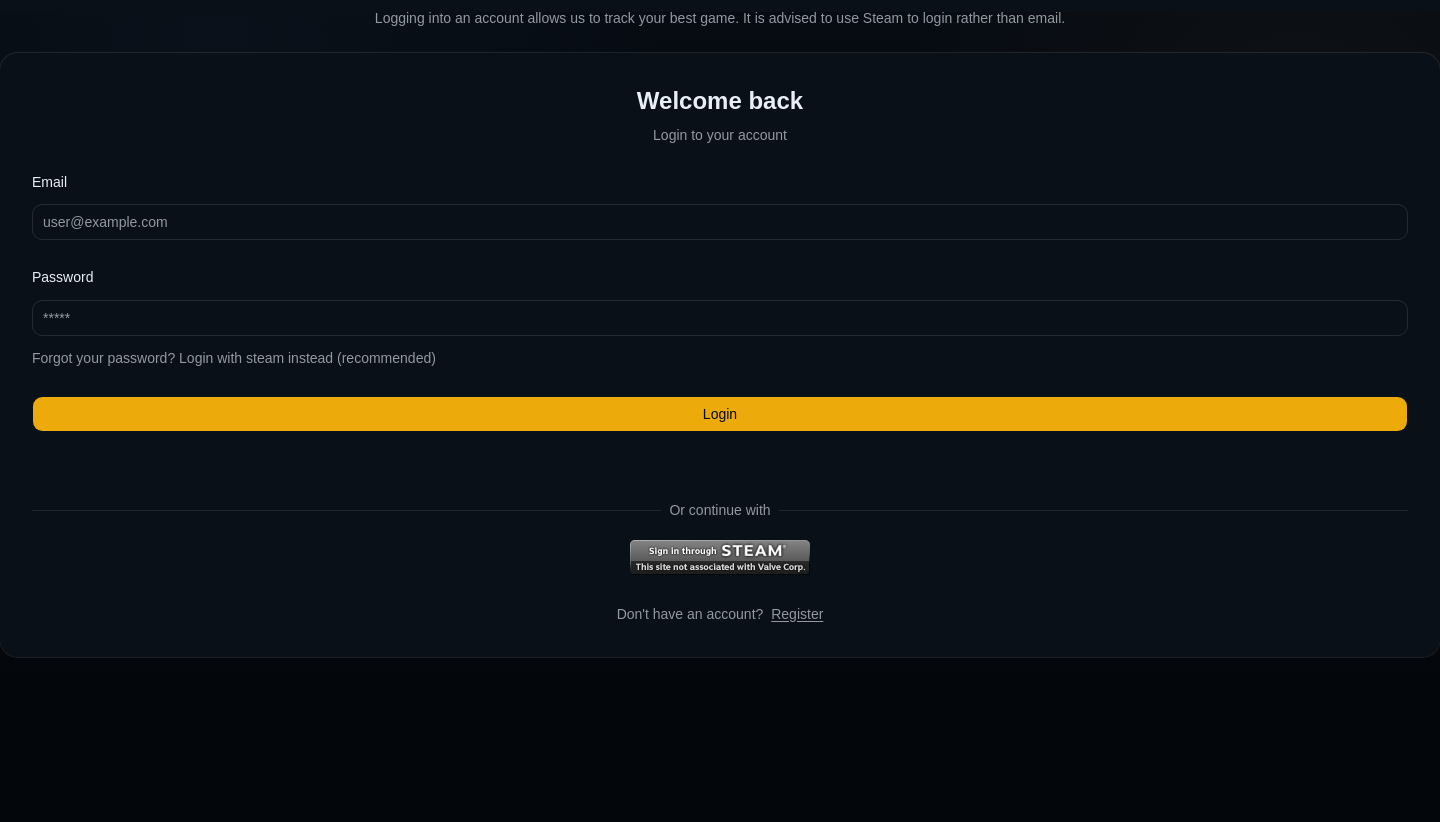
it: LoginForm › logs in, sets a success notification, and navigates home
Type "player@example.com" into the field labelled "Email". click: point(720, 222)
box: left=32, top=204, right=1408, bottom=240
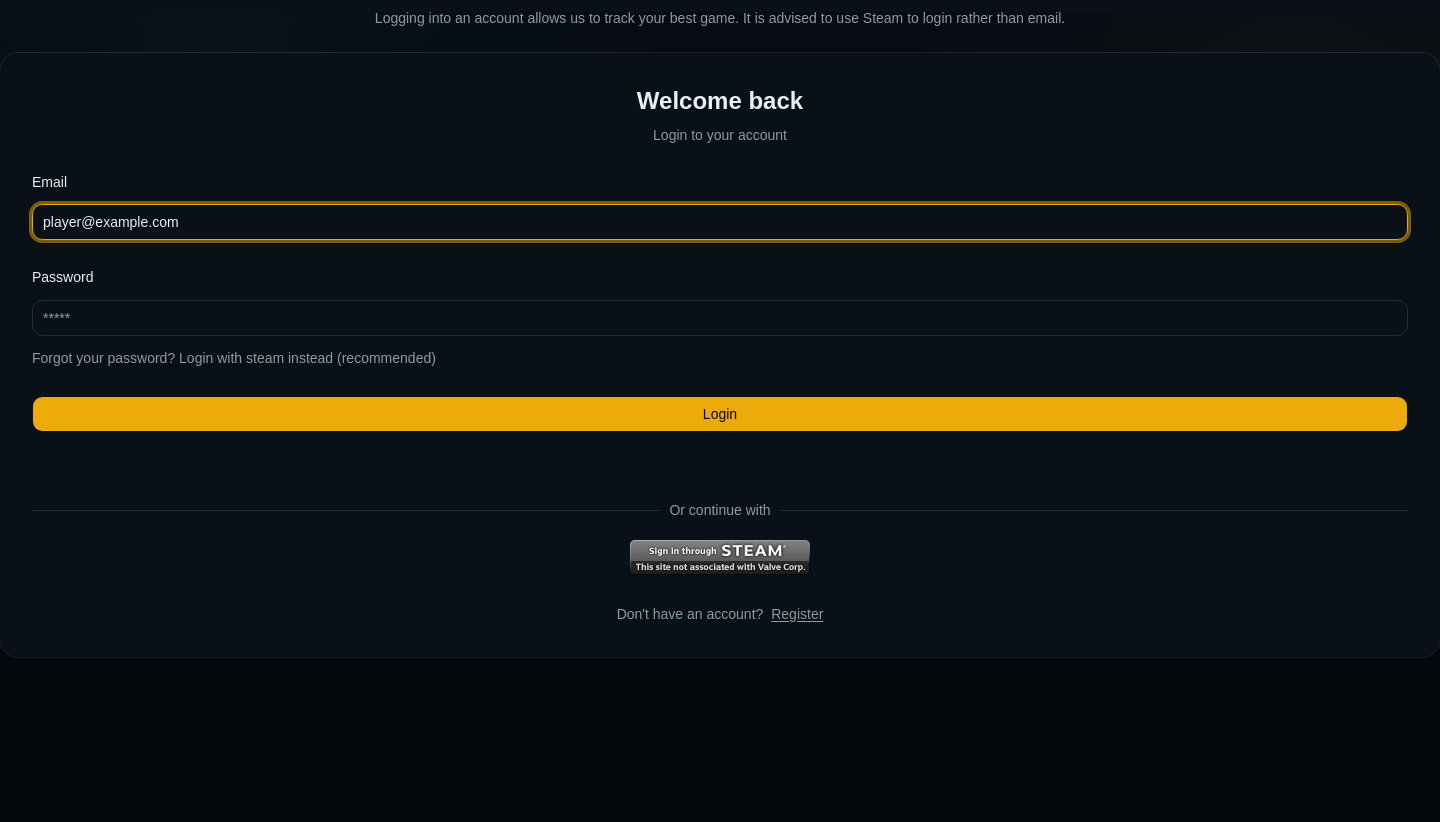
Type "playerexamplepassword" into the password field labelled "Password". click: point(720, 318)
box: left=32, top=300, right=1408, bottom=336
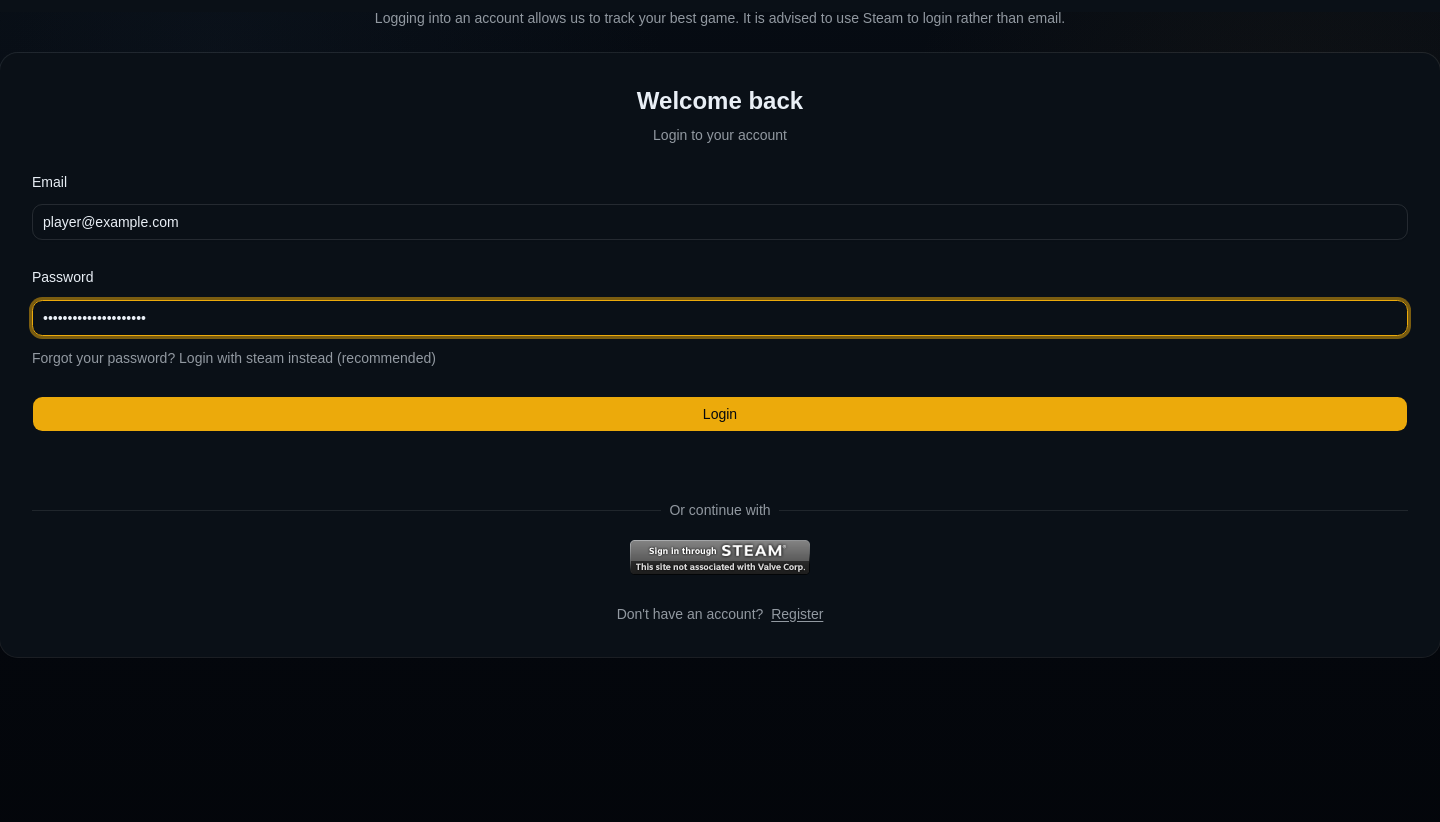
Click the button "Login". click: point(720, 414)
box: left=32, top=396, right=1408, bottom=432
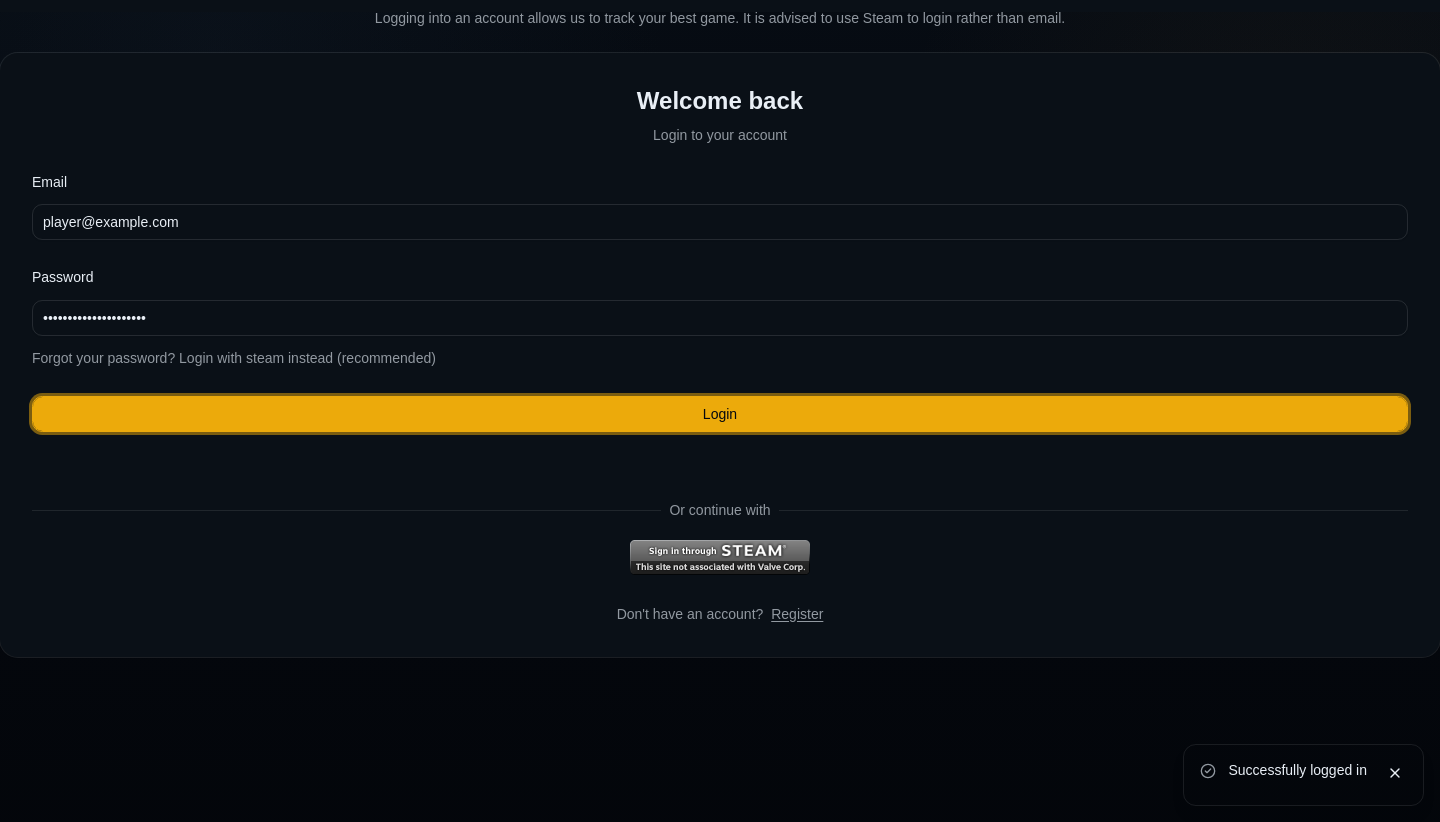
Expected: the text "Successfully logged in" is shown, left=1228, top=761, right=1367, bottom=780
